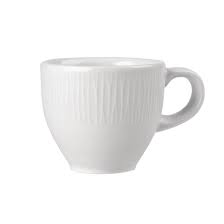cup: (36, 53, 207, 179)
